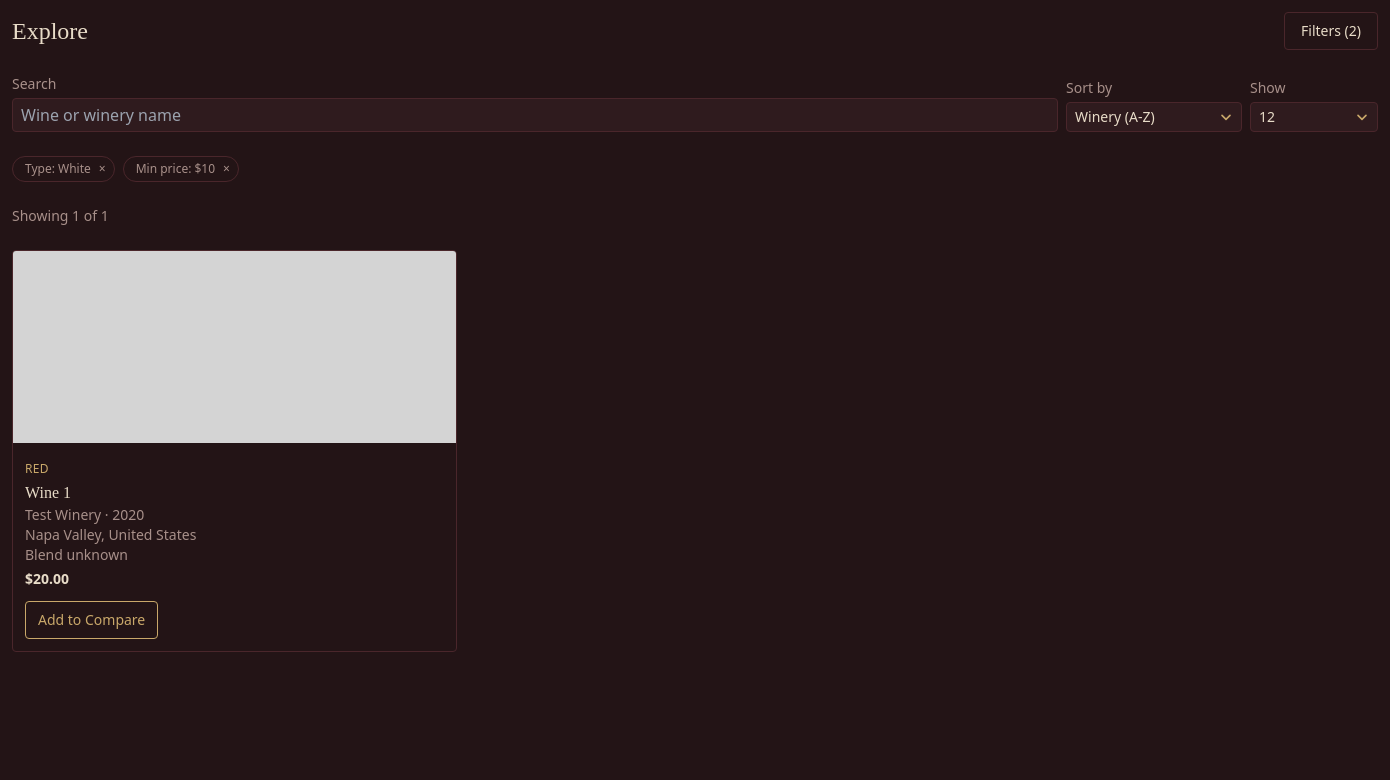
Test: ExplorePage › shows a removable chip for each active filter and removing one re-applies without it
Expected: the link "Wine 1" is shown, left=25, top=484, right=71, bottom=501
Expected: the button named "remove min price filter" is shown, left=219, top=161, right=234, bottom=177
Click the button named "remove type filter" at [102, 169], box left=95, top=161, right=110, bottom=177
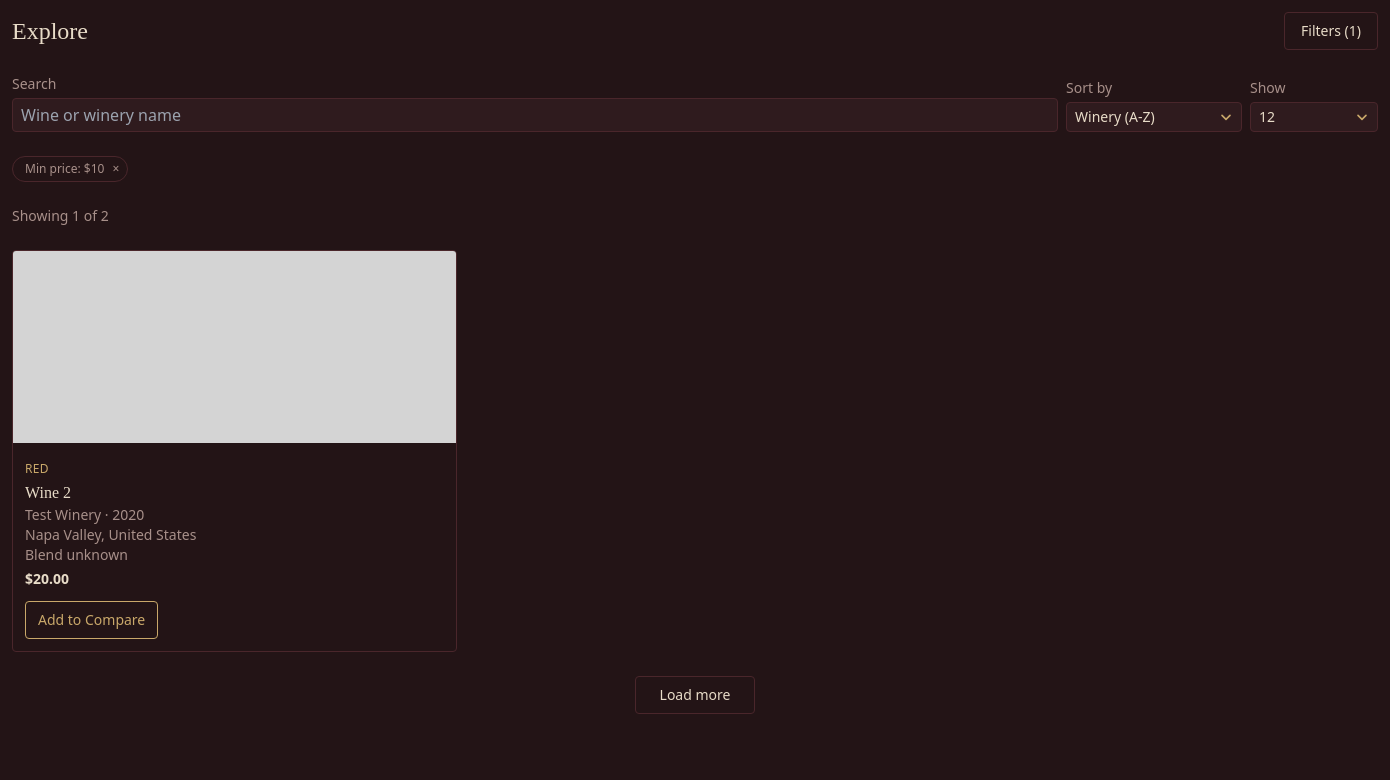
Expected: the button named "remove min price filter" is shown, left=108, top=161, right=123, bottom=177
Expected: the link "Wine 2" is shown, left=25, top=484, right=71, bottom=501
